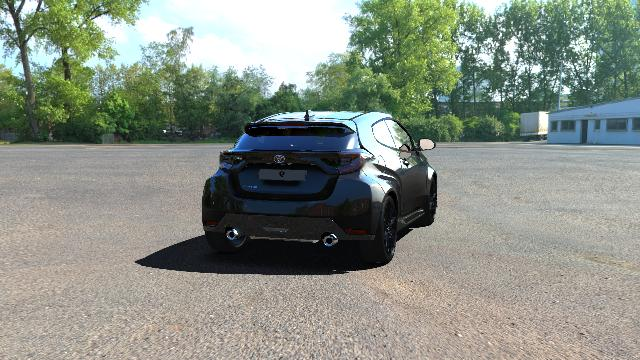License Plate: (260, 168, 304, 182)
